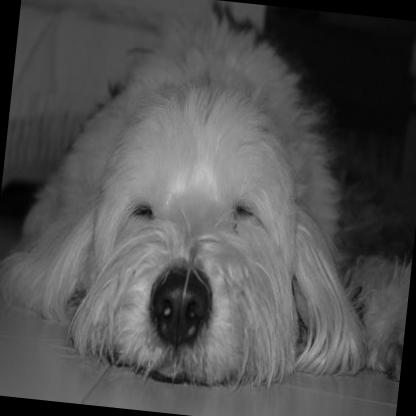Old_English_sheepdog: (0, 0, 416, 406)
